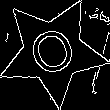O_SE: (23, 19, 83, 84)
